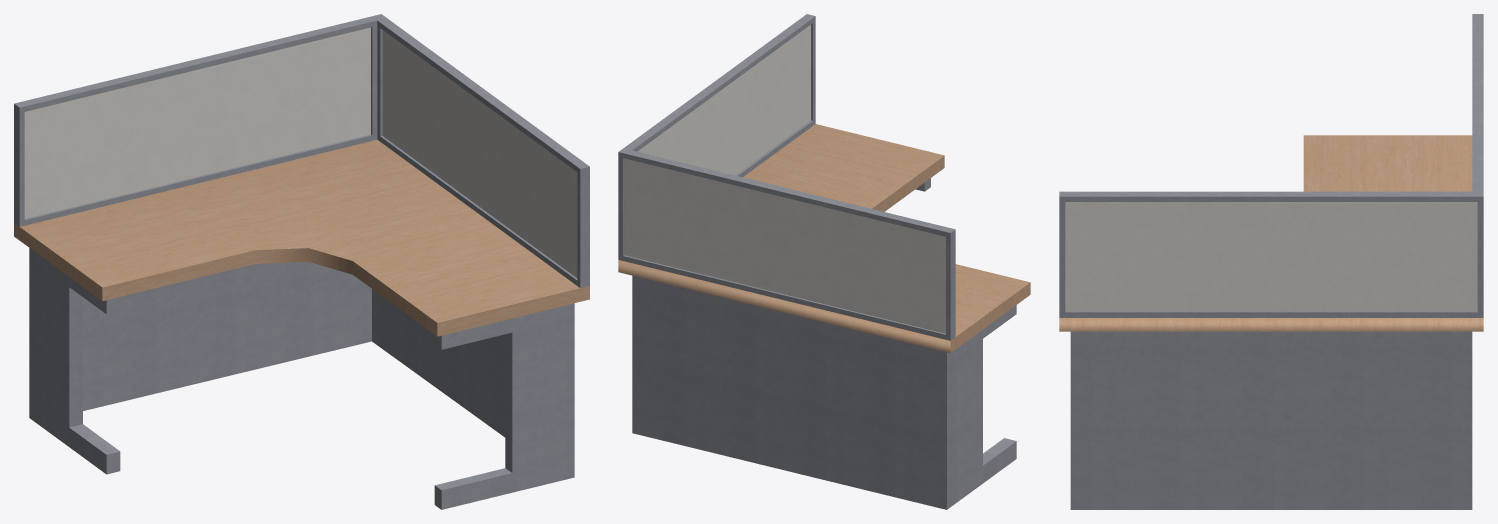
File: LGSeocho25OfficeDesk.fbx
The picture shows the model from 3 angles, left to right: view 1: azimuth 30°, elevation 25°; view 2: azimuth 150°, elevation 25°; view 3: azimuth 270°, elevation 25°; orthographic projection. The views are drawn at different scales.
Parts seen in each view (by area): view 1: LGSeocho25Metal, LGSeocho25Fabric, LGSeocho25Wood; view 2: LGSeocho25Metal, LGSeocho25Fabric, LGSeocho25Wood; view 3: LGSeocho25Metal, LGSeocho25Fabric, LGSeocho25Wood.
Boxes of the visible parts, <box> form: LGSeocho25Metal: <box>14,14,589,509</box>; LGSeocho25Fabric: <box>24,27,577,277</box>; LGSeocho25Wood: <box>14,139,589,336</box>; LGSeocho25Metal: <box>618,14,1016,509</box>; LGSeocho25Fabric: <box>624,25,945,333</box>; LGSeocho25Wood: <box>618,124,1030,353</box>; LGSeocho25Metal: <box>1059,14,1483,509</box>; LGSeocho25Fabric: <box>1065,202,1477,311</box>; LGSeocho25Wood: <box>1059,135,1483,331</box>.
Bounding box in the file's own units: 159 × 129 × 156.
